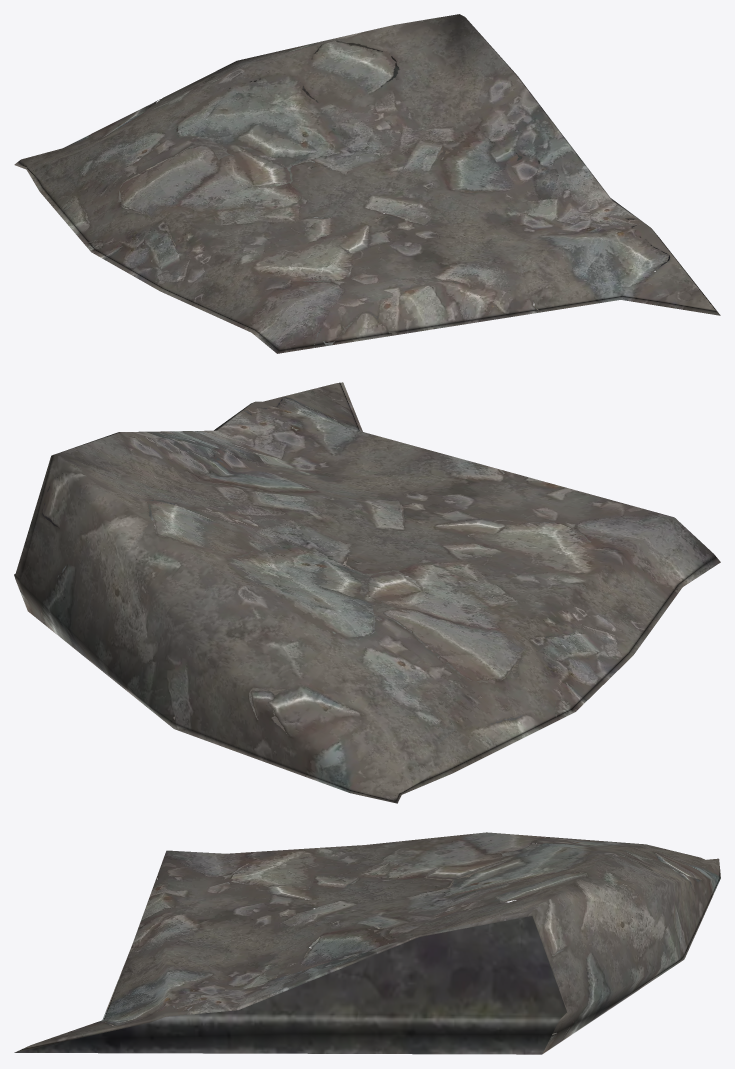
The picture shows the model from 3 angles, top to bottom: view 1: azimuth 30°, elevation 25°; view 2: azimuth 150°, elevation 25°; view 3: azimuth 270°, elevation 25°; orthographic projection. The views are drawn at different scales.
Visible parts, largest first — view 1: SM_SaradominTemple_Statue_01v4_LOD0; view 2: SM_SaradominTemple_Statue_01v4_LOD0; view 3: SM_SaradominTemple_Statue_01v4_LOD0.
Part boxes in pixels (x1,y1,x2,y2): SM_SaradominTemple_Statue_01v4_LOD0: [14, 14, 720, 353]; SM_SaradominTemple_Statue_01v4_LOD0: [14, 382, 720, 803]; SM_SaradominTemple_Statue_01v4_LOD0: [14, 832, 720, 1054].
Size of the model in its own units: 2.17 by 0.6394 by 3.04.
Materials: 2 (2 with a texture image).
